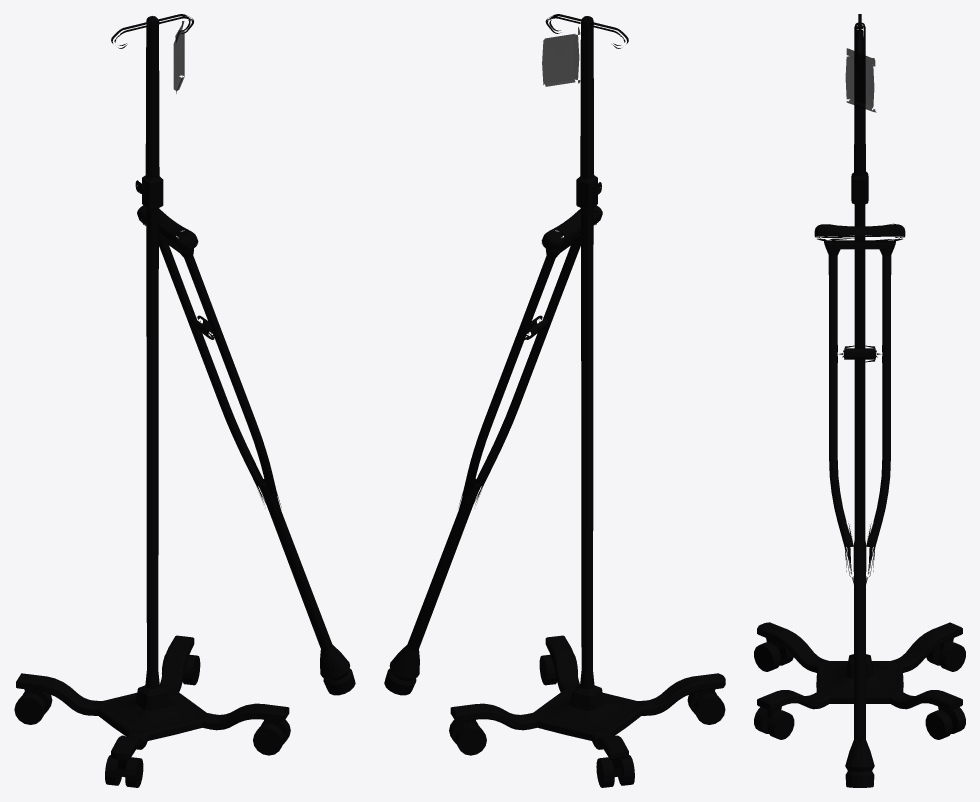
Rendered from prop_ivdrip.glb.
3 renders of one model, left to right at view 1: azimuth 30°, elevation 25°; view 2: azimuth 150°, elevation 25°; view 3: azimuth 270°, elevation 25°, orthographic. The views are drawn at different scales.
Parts seen in each view (by area): view 1: Crutch_Crutch_0; view 2: Crutch_Crutch_0; view 3: Crutch_Crutch_0.
Boxes of the visible parts, x1,y1,x2,y2 form: Crutch_Crutch_0: (14, 14, 355, 787); Crutch_Crutch_0: (384, 14, 725, 787); Crutch_Crutch_0: (754, 14, 965, 787).
Size of the model in its own units: 0.8119 by 1.9 by 0.5366.
Materials: 3 (3 with a texture image).
